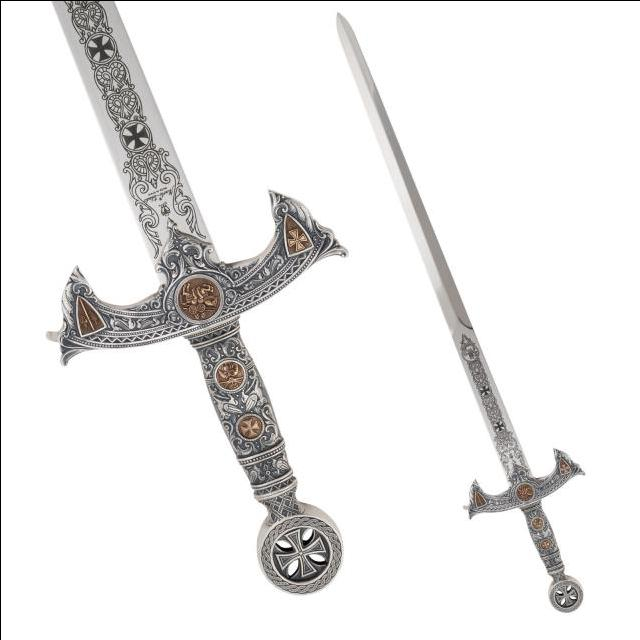sword: (19, 1, 348, 602), (333, 11, 592, 618)
